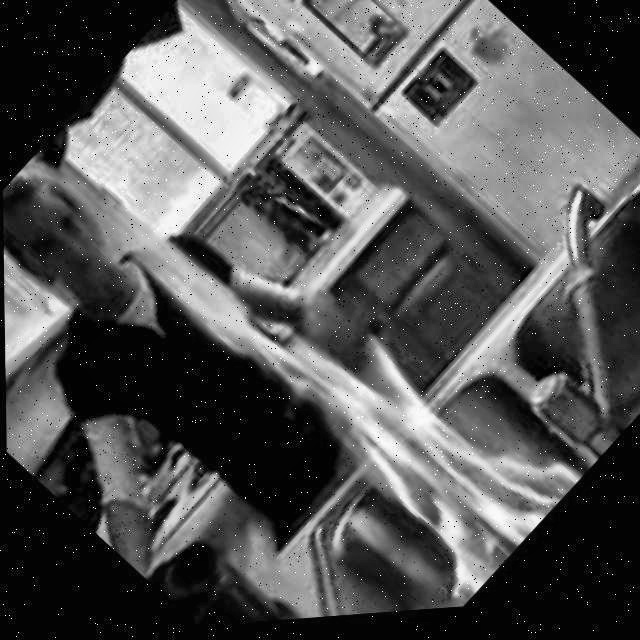Fire: (87, 122, 565, 622)
